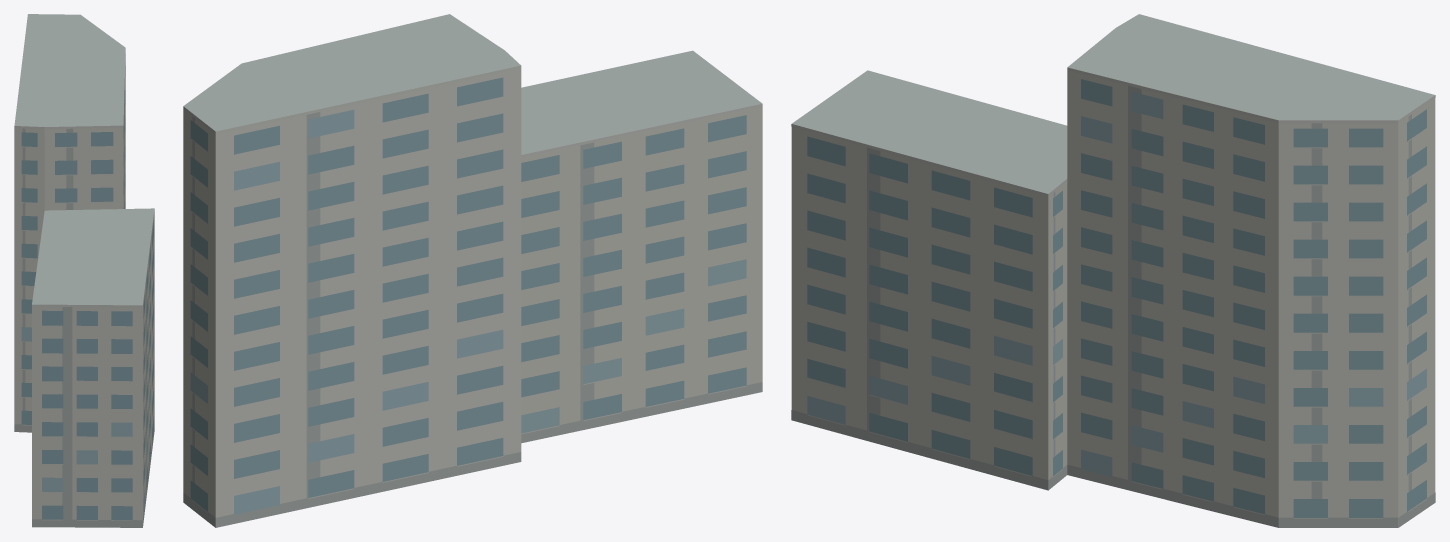
Rendered from residential-f1455eb0-b674-416e-acd5-52bc93d80c63.glb.
3 renders of one model, left to right at view 1: azimuth 30°, elevation 25°; view 2: azimuth 150°, elevation 25°; view 3: azimuth 270°, elevation 25°, orthographic. The views are drawn at different scales.
Visible parts, largest first — view 1: residential-f1455eb0-b674-416e-acd5-52bc93d80c63.tmp; view 2: residential-f1455eb0-b674-416e-acd5-52bc93d80c63.tmp; view 3: residential-f1455eb0-b674-416e-acd5-52bc93d80c63.tmp.
Part boxes in pixels (x1=…): residential-f1455eb0-b674-416e-acd5-52bc93d80c63.tmp: x1=14, y1=14, x2=154, y2=527; residential-f1455eb0-b674-416e-acd5-52bc93d80c63.tmp: x1=183, y1=14, x2=762, y2=527; residential-f1455eb0-b674-416e-acd5-52bc93d80c63.tmp: x1=791, y1=14, x2=1435, y2=527.
Size of the model in its own units: 28.47 by 33.55 by 48.04.
